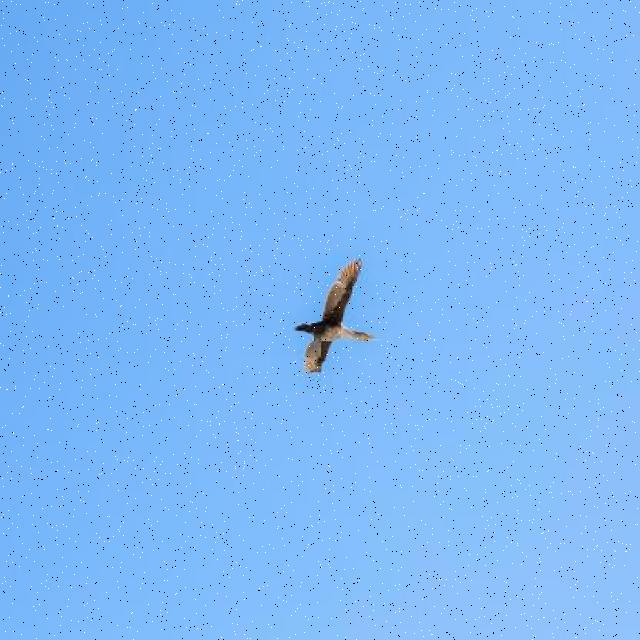bird: (294, 258, 376, 374)
